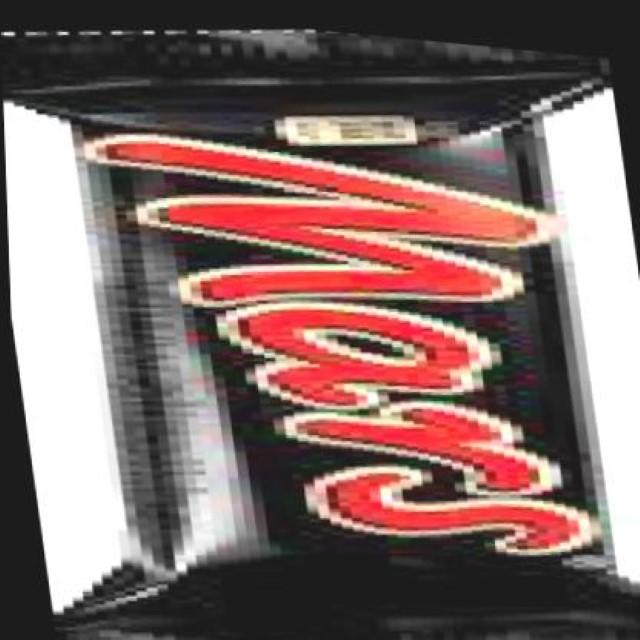mars_chocolate: (73, 43, 626, 640)
